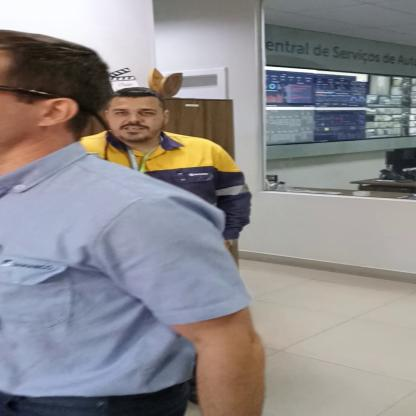Operacional: (100, 135, 242, 182)
